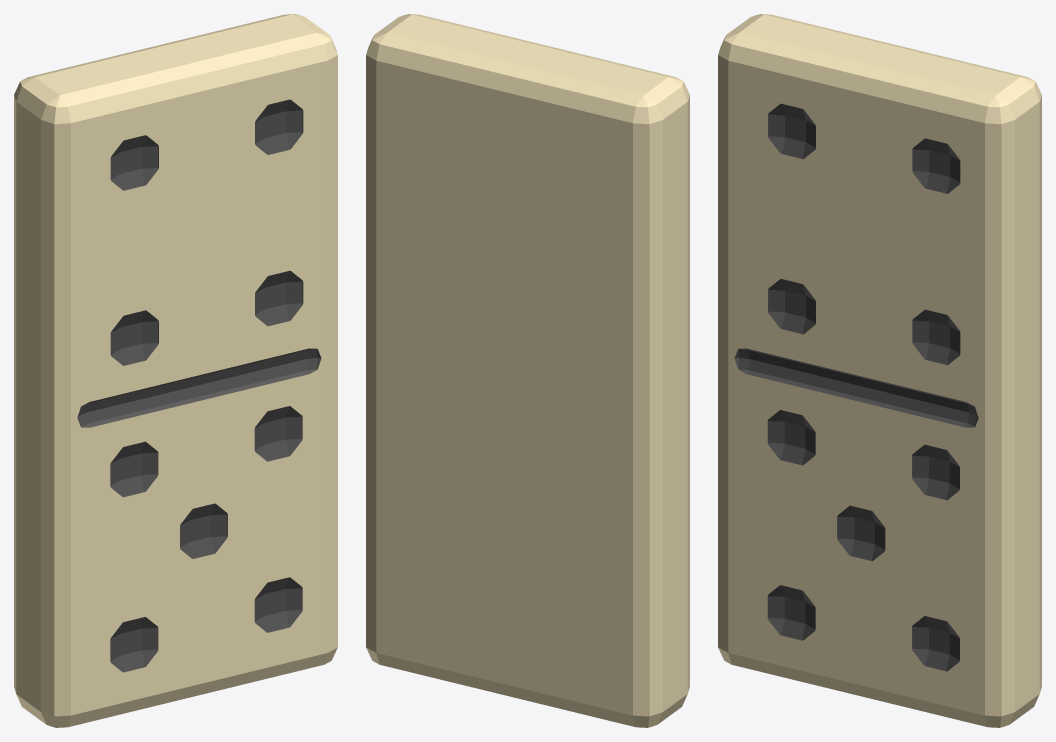
File: dominoes 5x4.fbx
3 renders of one model, left to right at view 1: azimuth 30°, elevation 25°; view 2: azimuth 150°, elevation 25°; view 3: azimuth 330°, elevation 25°, orthographic.
Parts seen in each view (by area): view 1: Boole_23; view 2: Boole_23; view 3: Boole_23.
Boxes of the visible parts, x1,y1,x2,y2 form: Boole_23: (14, 14, 337, 727); Boole_23: (366, 14, 689, 727); Boole_23: (718, 14, 1041, 727).
Bounding box in the file's own units: 200 × 410 × 55.02.
